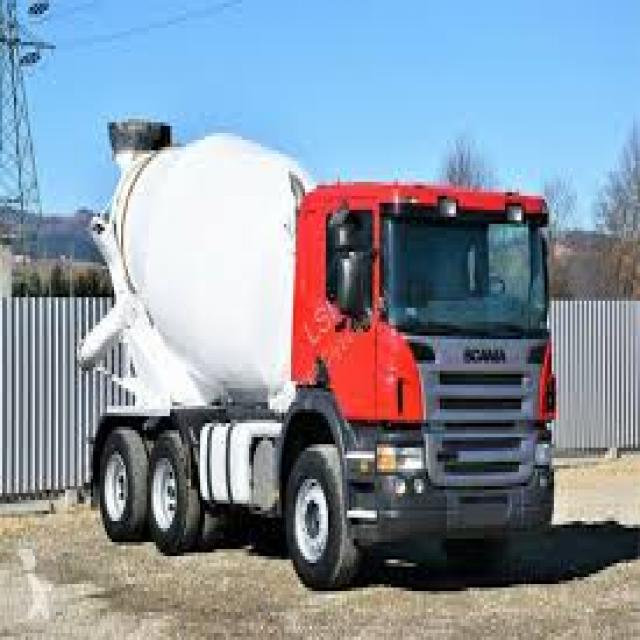Mixer Truck: (76, 117, 560, 594)
